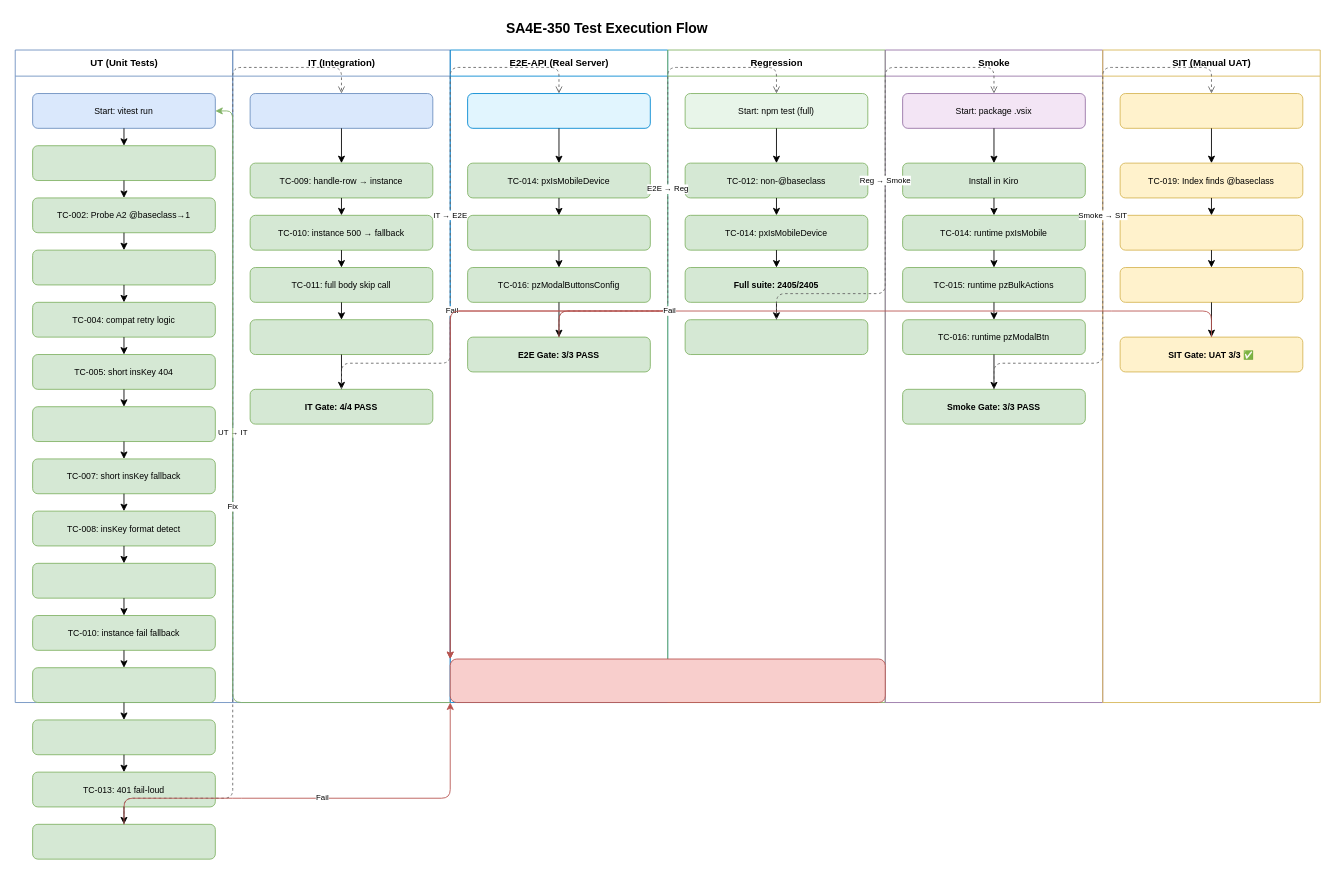
The diagram is 1335 pixels wide and 874 high, and some of its shapes have lost their labels. The shapes that lost their labels are listed below. From the top down, each one's centre as x and y in pixels, then its label:
At point (341, 110): "Start: Hono app.request()".
At point (558, 110): "Start: fetch real server".
At point (1211, 110): "Start: Extension 1.48.0".
At point (123, 163): "TC-001: Probe A1 empty→0".
At point (558, 232): "TC-015: pzBulkActions full".
At point (1211, 232): "TC-020: KB full content".
At point (123, 267): "TC-003: @baseclass verbatim".
At point (1211, 284): "TC-021: non-@baseclass works".
At point (341, 337): "TC-018: full rule extra fields".
At point (776, 337): "Reg Gate: 2405 PASS".
At point (123, 424): "TC-006: full insKey 200".
At point (123, 580): "TC-009: handle-row follow-up".
At point (123, 685): "TC-011: full body no follow-up".
At point (667, 680): "❌ FAIL → Defect → Fix → Retest".
At point (123, 737): "TC-012: non-@baseclass no retry".
At point (123, 841): "UT Gate: 6/6 PASS".
